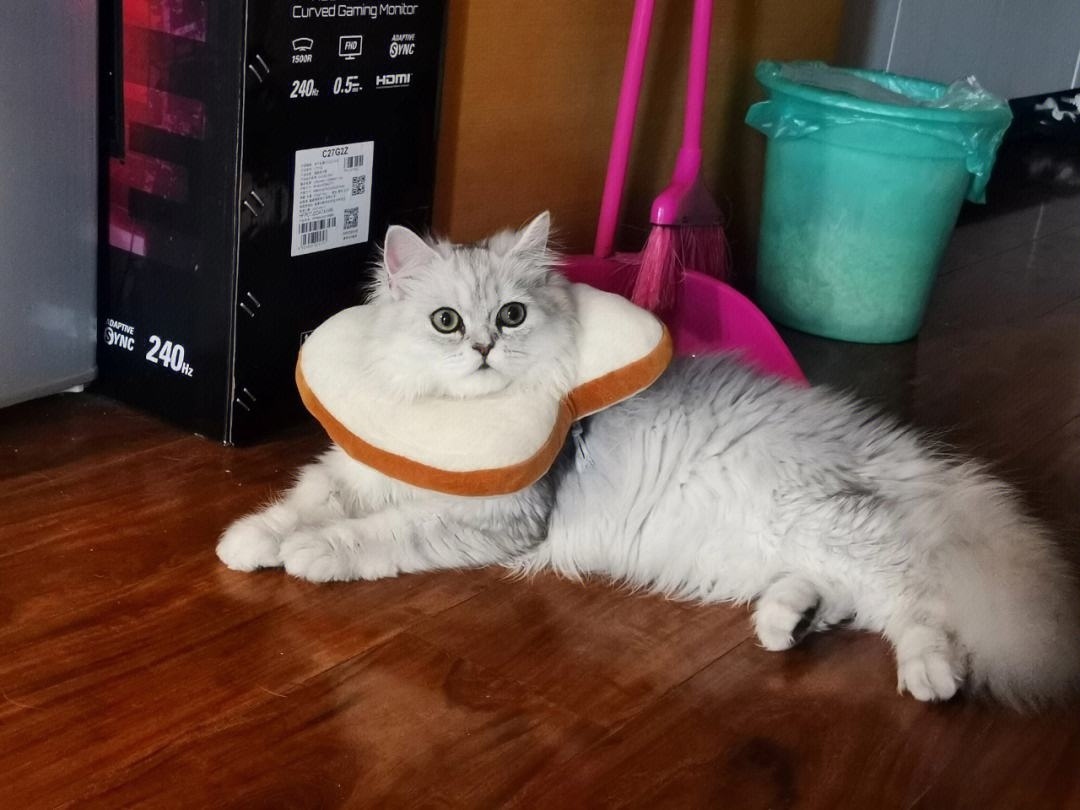cat: (213, 206, 1080, 708)
